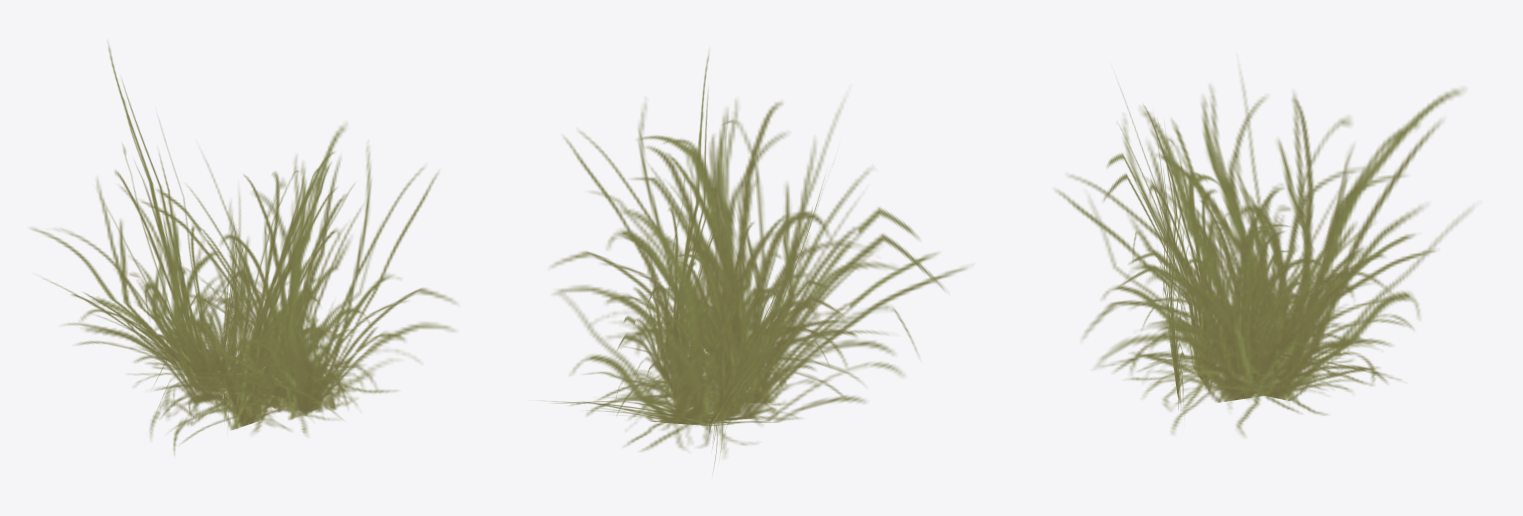
Rendered from ichu_07.glb.
3 views of the same model, side by side, from view 1: azimuth 30°, elevation 25°; view 2: azimuth 150°, elevation 25°; view 3: azimuth 270°, elevation 25° (orthographic). The views are drawn at different scales.
Visible parts, largest first — view 1: Ichu; view 2: Ichu; view 3: Ichu.
Part boxes in pixels (box(x1,y1,x2,y2)): Ichu: box(30, 43, 456, 454); Ichu: box(551, 54, 967, 471); Ichu: box(1055, 72, 1472, 436).
Size of the model in its own units: 0.3669 by 0.29 by 0.3587.
Materials: 1 (1 with a texture image).
